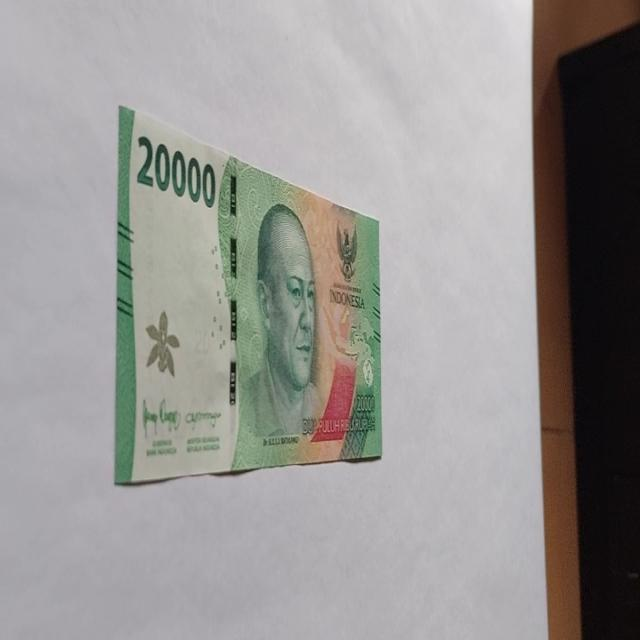dua puluh ribu rupiah: (114, 103, 383, 485), (238, 199, 328, 456)
